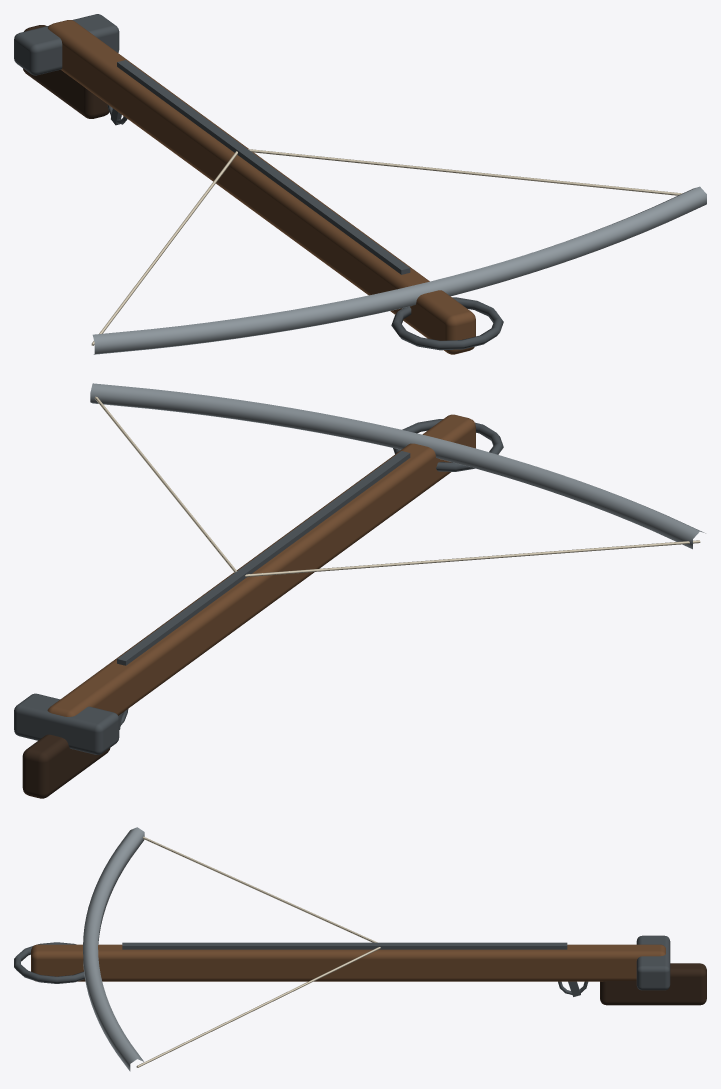
The model's file is heavy-crossbow.glb.
3 renders of one model, top to bottom at view 1: azimuth 30°, elevation 25°; view 2: azimuth 150°, elevation 25°; view 3: azimuth 270°, elevation 25°, orthographic. The views are drawn at different scales.
Visible parts, largest first — view 1: heavy-crossbow-stock, heavy-crossbow-prod, heavy-crossbow-rail, heavy-crossbow-windlass, heavy-crossbow-stirrup, heavy-crossbow-grip, heavy-crossbow-string-return, heavy-crossbow-string; view 2: heavy-crossbow-stock, heavy-crossbow-prod, heavy-crossbow-rail, heavy-crossbow-windlass, heavy-crossbow-grip, heavy-crossbow-string, heavy-crossbow-stirrup, heavy-crossbow-string-return; view 3: heavy-crossbow-stock, heavy-crossbow-prod, heavy-crossbow-rail, heavy-crossbow-grip, heavy-crossbow-windlass, heavy-crossbow-stirrup, heavy-crossbow-string-return, heavy-crossbow-string.
Boxes of the visible parts, bbox=[...] form: heavy-crossbow-stock: bbox=[48, 20, 475, 354]; heavy-crossbow-prod: bbox=[92, 186, 706, 354]; heavy-crossbow-rail: bbox=[117, 60, 410, 274]; heavy-crossbow-windlass: bbox=[14, 14, 119, 75]; heavy-crossbow-stirrup: bbox=[391, 297, 503, 350]; heavy-crossbow-grip: bbox=[23, 25, 109, 118]; heavy-crossbow-string-return: bbox=[248, 149, 682, 195]; heavy-crossbow-string: bbox=[91, 151, 237, 345]; heavy-crossbow-stock: bbox=[47, 414, 475, 716]; heavy-crossbow-prod: bbox=[90, 383, 705, 549]; heavy-crossbow-rail: bbox=[117, 451, 410, 665]; heavy-crossbow-windlass: bbox=[14, 693, 119, 754]; heavy-crossbow-grip: bbox=[22, 734, 110, 798]; heavy-crossbow-string: bbox=[245, 540, 700, 576]; heavy-crossbow-stirrup: bbox=[393, 419, 503, 471]; heavy-crossbow-string-return: bbox=[95, 396, 236, 572]; heavy-crossbow-stock: bbox=[31, 944, 665, 981]; heavy-crossbow-prod: bbox=[83, 827, 144, 1071]; heavy-crossbow-rail: bbox=[122, 942, 567, 949]; heavy-crossbow-grip: bbox=[600, 963, 706, 1005]; heavy-crossbow-windlass: bbox=[636, 935, 670, 990]; heavy-crossbow-stirrup: bbox=[14, 942, 84, 983]; heavy-crossbow-string-return: bbox=[136, 947, 380, 1067]; heavy-crossbow-string: bbox=[143, 836, 377, 942].
Size of the model in its own units: 0.6429 by 0.0762 by 0.8053.
